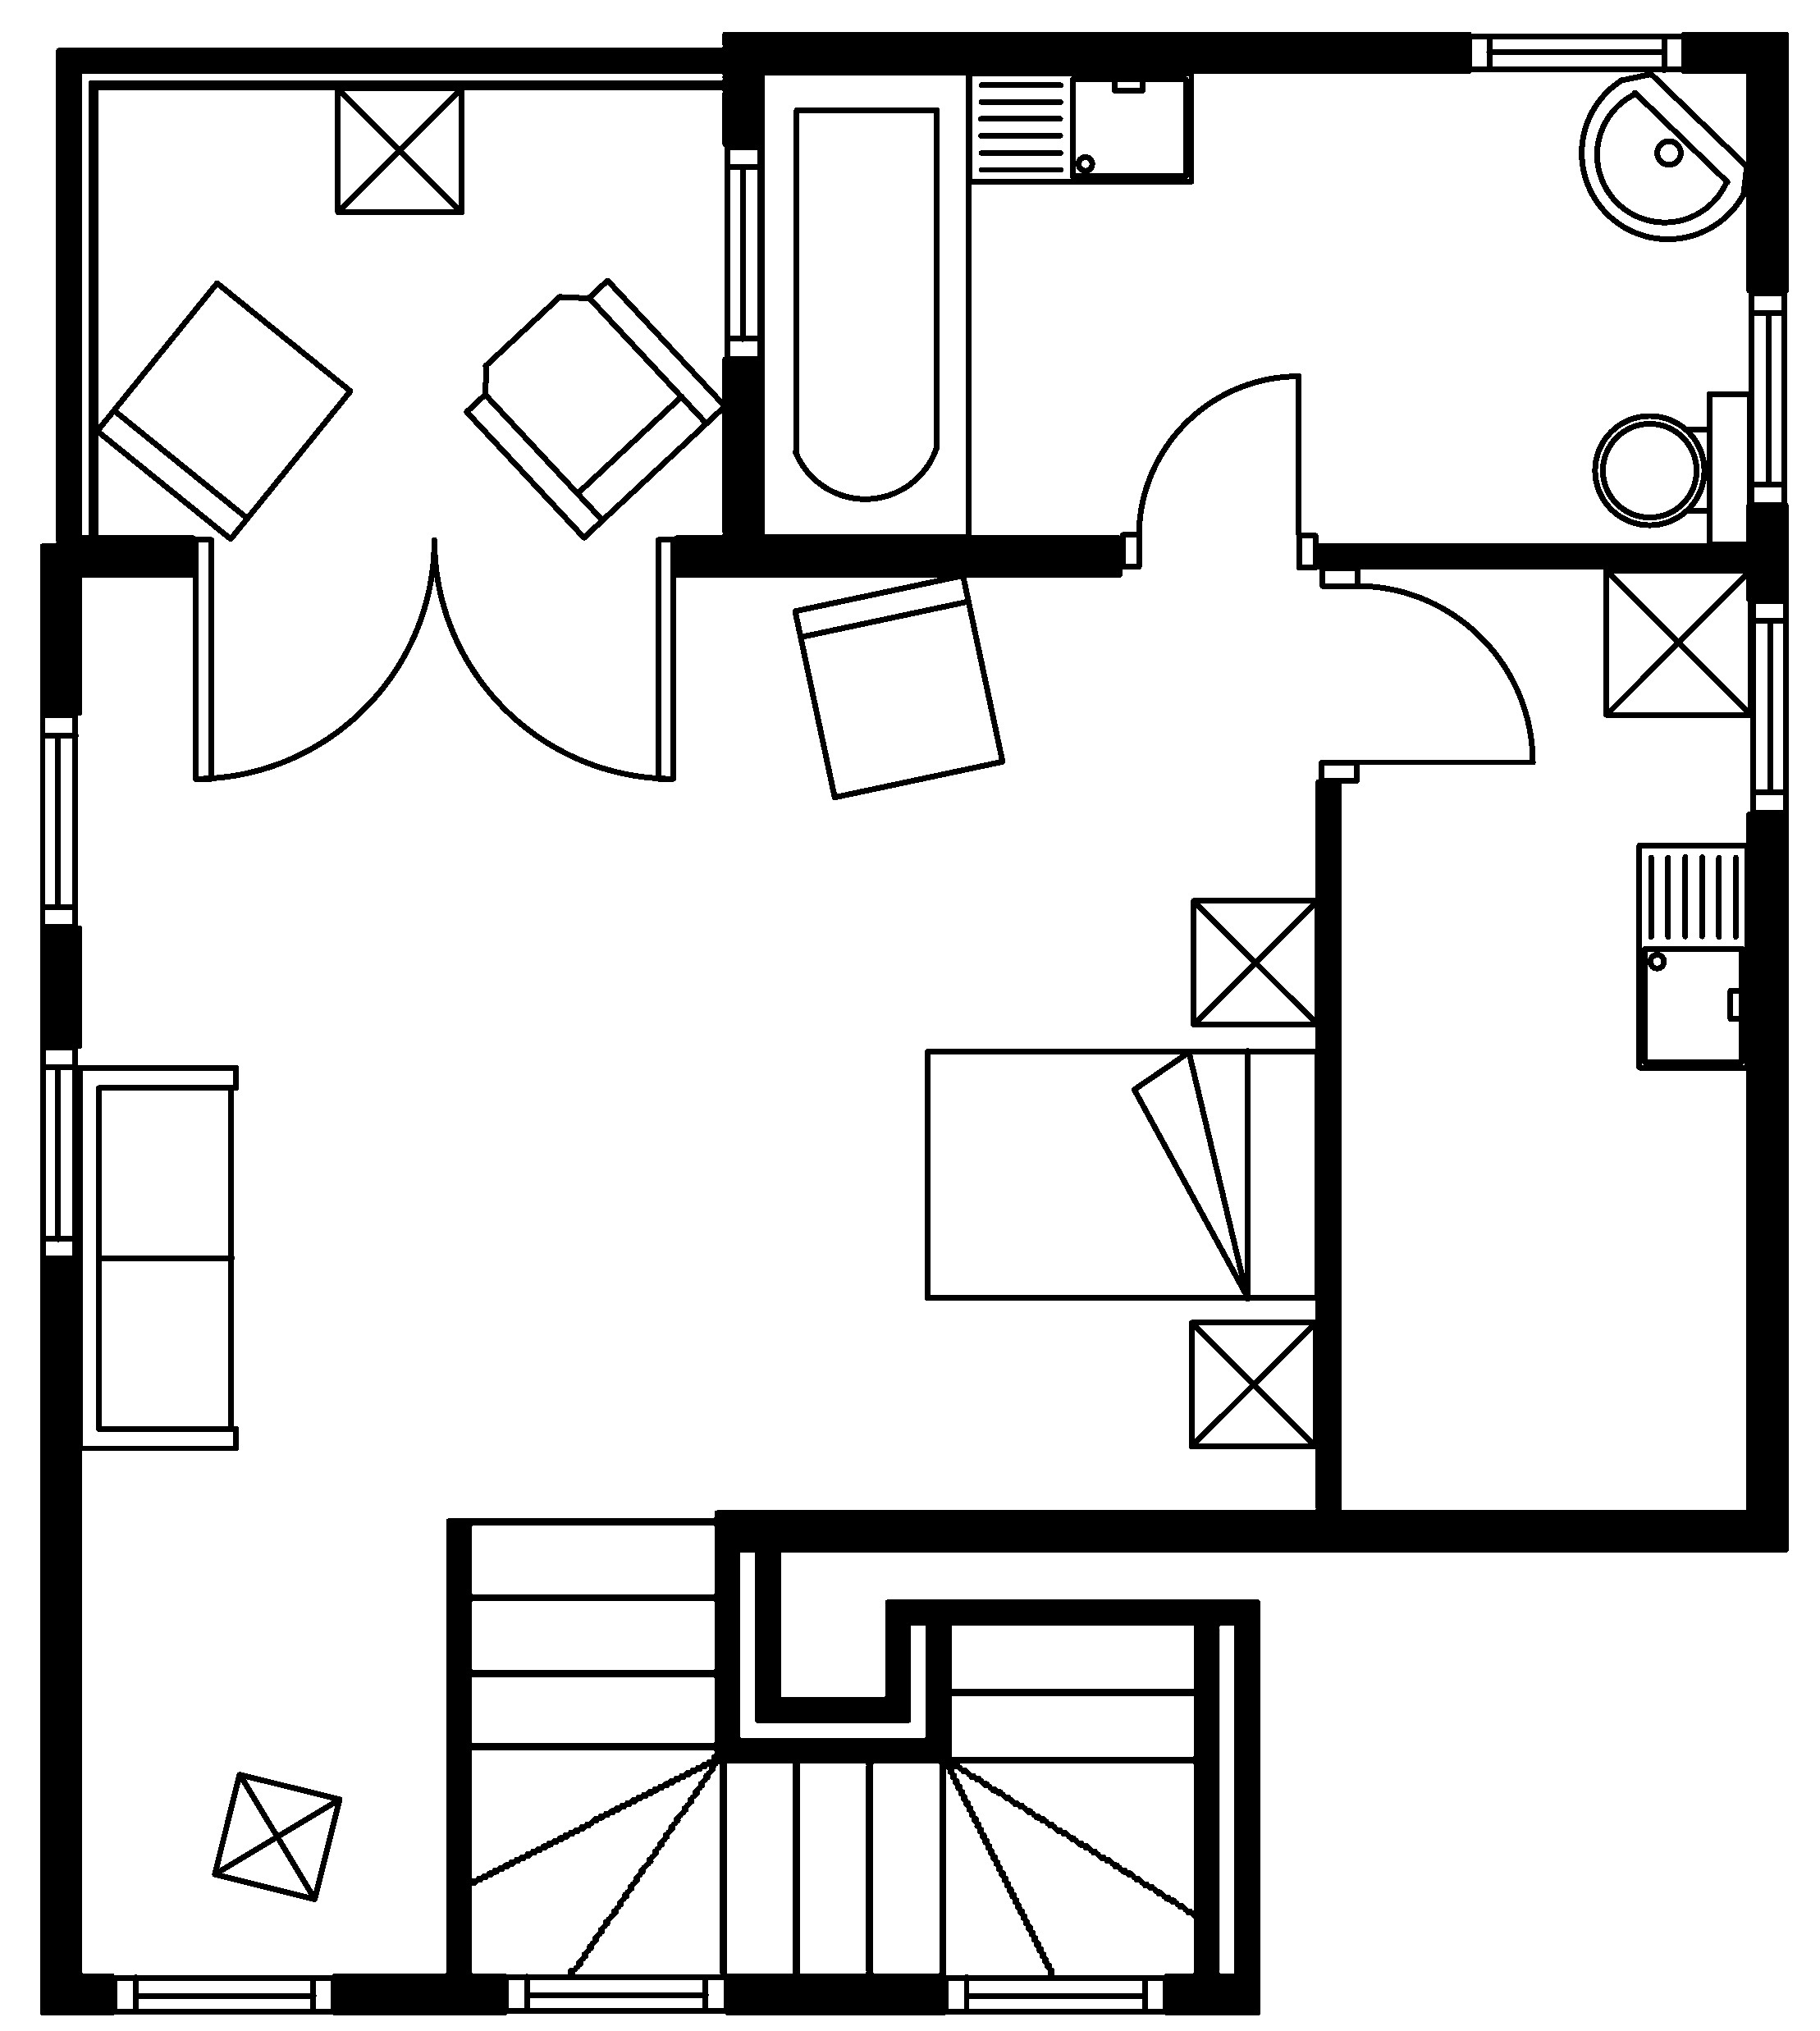armchair: (462, 276, 727, 541)
bed: (922, 1047, 1321, 1302)
coffee_table: (1602, 566, 1753, 719), (1186, 1318, 1319, 1449), (211, 1769, 343, 1903), (1189, 896, 1321, 1028), (334, 84, 464, 214)
large_sink: (1592, 388, 1753, 548)
large_sofa: (76, 1063, 239, 1451)
sink: (1634, 842, 1750, 1072), (964, 69, 1195, 184)
small_sink: (1578, 70, 1750, 241)
small_sofa: (93, 278, 353, 543), (791, 571, 1005, 799)
tub: (757, 69, 971, 539)
